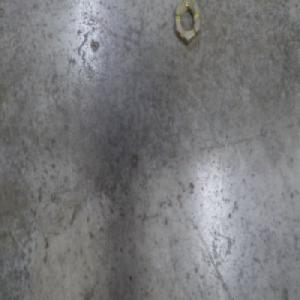Nut: (174, 0, 202, 45)
